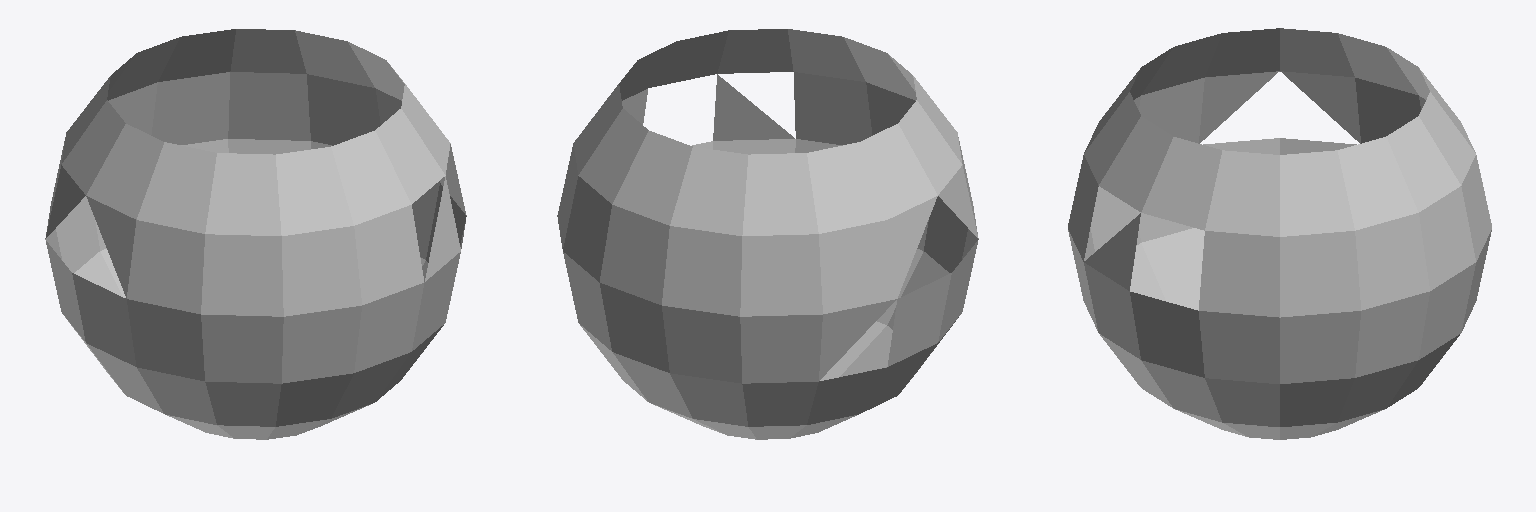
The model's file is test_nm_trans.obj.
3 renders of one model, left to right at view 1: azimuth 30°, elevation 25°; view 2: azimuth 150°, elevation 25°; view 3: azimuth 270°, elevation 25°, orthographic.
Size of the model in its own units: 2 by 1.71 by 2.